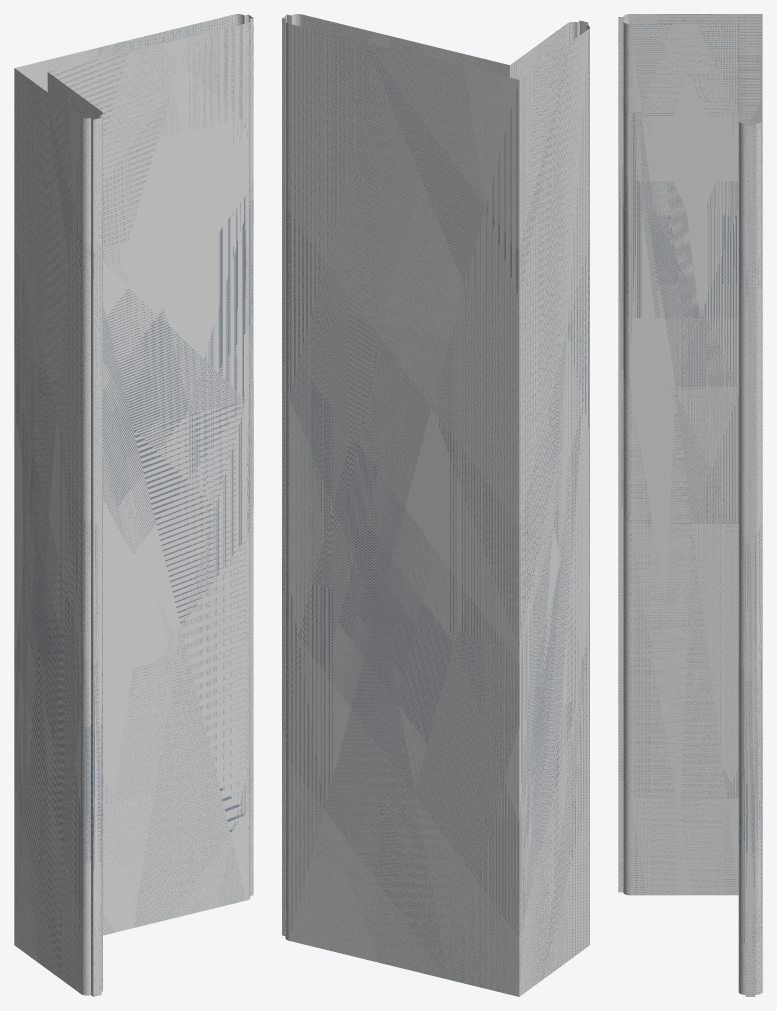
Rendered from PW_CornerFixElem_ds_T1_060x110x010x400.dae.
The picture shows the model from 3 angles, left to right: view 1: azimuth 30°, elevation 25°; view 2: azimuth 150°, elevation 25°; view 3: azimuth 270°, elevation 25°; orthographic projection. The views are drawn at different scales.
Parts seen in each view (by area): view 1: group_0; view 2: group_0; view 3: group_0.
Boxes of the visible parts, x1,y1,x2,y2 form: group_0: [14, 14, 253, 996]; group_0: [282, 14, 589, 996]; group_0: [618, 14, 762, 996].
Bounding box in the file's own units: 43.31 × 23.62 × 157.
